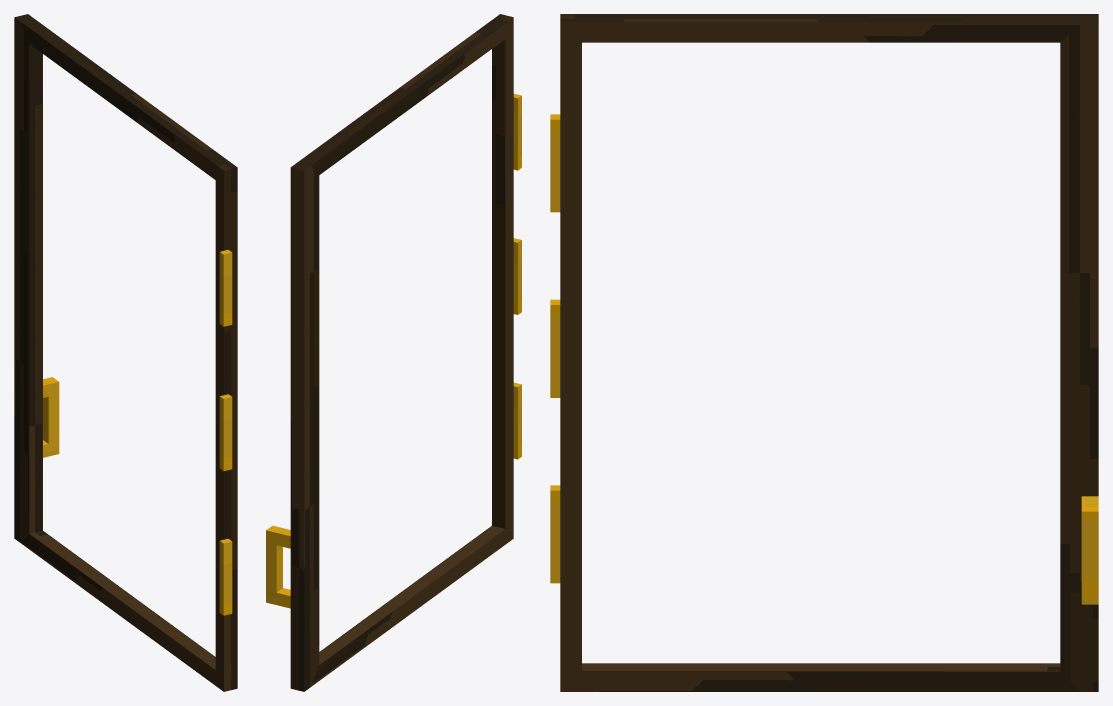
Rendered from Cabinet_door_Glass_Left.fbx.
3 renders of one model, left to right at view 1: azimuth 30°, elevation 25°; view 2: azimuth 150°, elevation 25°; view 3: azimuth 270°, elevation 25°, orthographic. The views are drawn at different scales.
Parts seen in each view (by area): view 1: Cube_1; view 2: Cube_1; view 3: Cube_1.
Boxes of the visible parts, bbox=[...] form: Cube_1: bbox=[14, 14, 237, 691]; Cube_1: bbox=[266, 14, 521, 691]; Cube_1: bbox=[550, 14, 1098, 691].
Size of the model in its own units: 22.41 by 264 by 196.
Materials: 1 (1 with a texture image).
